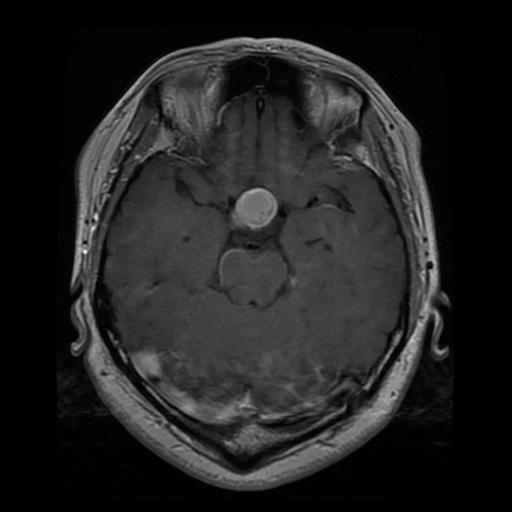Tumour-Pituitary: (230, 187, 286, 237)
